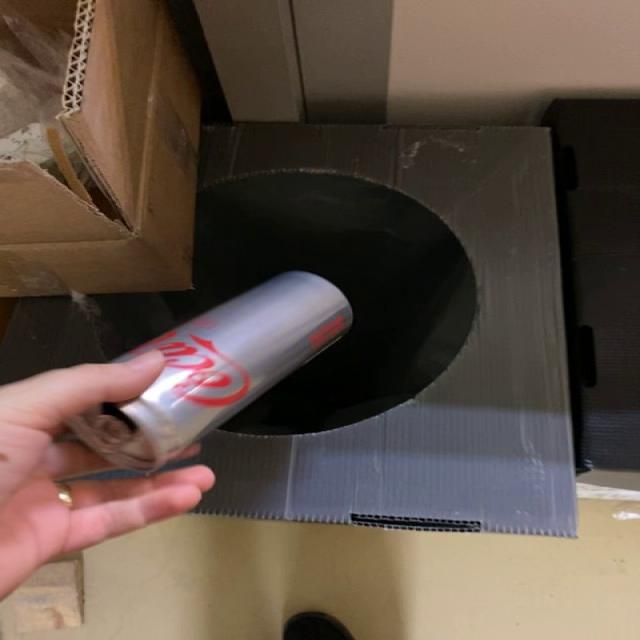bin: (1, 123, 576, 538)
metal: (67, 271, 353, 472)
